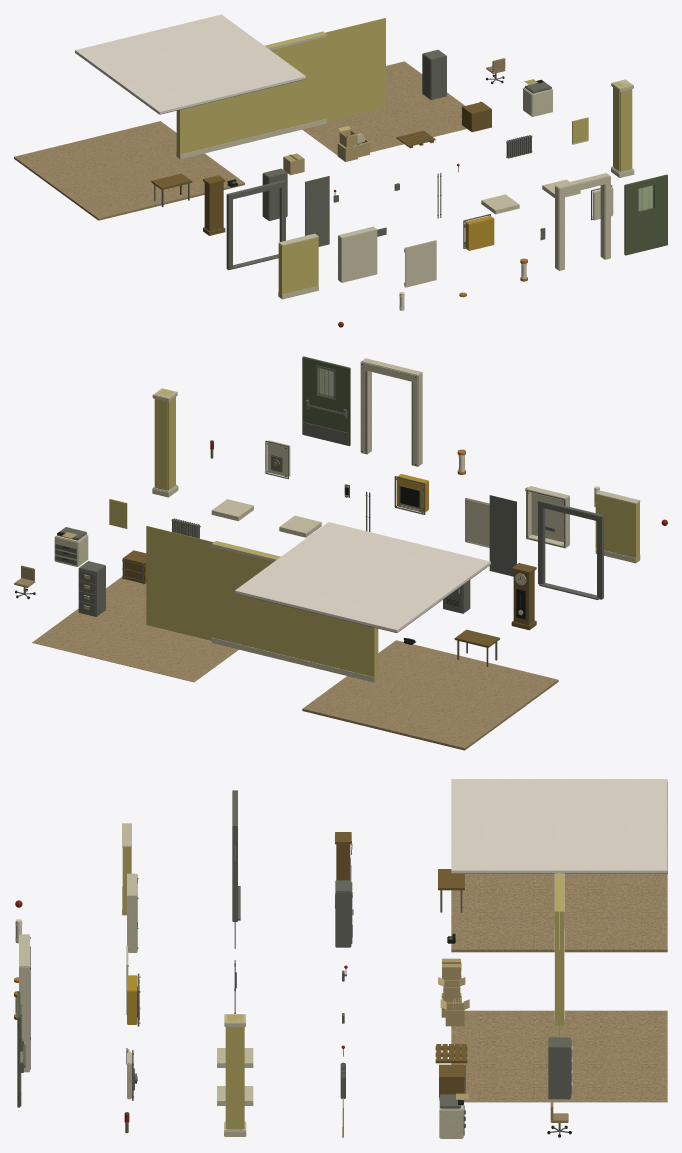
Rendered from Level1_ModularKit.fbx.
3 views of the same model, one above another, from view 1: azimuth 30°, elevation 25°; view 2: azimuth 150°, elevation 25°; view 3: azimuth 270°, elevation 25° (orthographic). The views are drawn at different scales.
Parts seen in each view (by area): view 1: Ceiling.042, Floor.042, WallHalf.079, FloorSkin, WallSkin, ExitDoor, WallShort.008, ExitPortal, RelayShell, Pillar, ElevatorDoorSkin.002, ElevatorFrame.001 (+11 smaller); view 2: Ceiling.042, Floor.042, WallHalf.079, FloorSkin, WallSkin, ExitDoor, ExitPortal, WallShort.008, Pillar, ElevatorDoorSkin.002, ElevatorFrame.001, RelayShell (+11 smaller); view 3: Ceiling.042, FloorSkin, Floor.042, Pillar, WallHalf.079, FilingCabinet.003, ExitPortal, RelayCabinet.001, Printer, CardboardPile.001, ElevatorFrame.001, RelayShell (+7 smaller).
Boxes of the visible parts, x1,y1,x2,y2 form: Ceiling.042: [75, 14, 305, 114]; Floor.042: [14, 121, 244, 220]; WallHalf.079: [176, 31, 326, 159]; FloorSkin: [302, 61, 466, 155]; WallSkin: [325, 18, 385, 121]; ExitDoor: [624, 174, 667, 255]; WallShort.008: [278, 233, 318, 299]; ExitPortal: [555, 173, 610, 270]; RelayShell: [338, 226, 377, 282]; Pillar: [611, 79, 634, 177]; ElevatorDoorSkin.002: [305, 176, 329, 246]; ElevatorFrame.001: [226, 180, 285, 270]; Ceiling.042: [234, 522, 490, 632]; Floor.042: [302, 640, 558, 750]; WallHalf.079: [212, 541, 378, 682]; FloorSkin: [32, 577, 238, 682]; WallSkin: [146, 526, 277, 640]; ExitDoor: [302, 356, 350, 446]; ExitPortal: [360, 358, 422, 466]; WallShort.008: [595, 490, 640, 563]; Pillar: [152, 388, 178, 497]; ElevatorDoorSkin.002: [489, 495, 516, 576]; ElevatorFrame.001: [538, 500, 603, 599]; RelayShell: [526, 486, 569, 548]; Ceiling.042: [451, 779, 667, 873]; FloorSkin: [451, 1010, 667, 1102]; Floor.042: [451, 874, 667, 952]; Pillar: [224, 1014, 246, 1136]; WallHalf.079: [554, 873, 564, 1025]; FilingCabinet.003: [548, 1037, 572, 1099]; ExitPortal: [19, 934, 30, 1072]; RelayCabinet.001: [335, 880, 353, 947]; Printer: [439, 1093, 468, 1138]; CardboardPile.001: [438, 977, 469, 1026]; ElevatorFrame.001: [232, 790, 240, 921]; RelayShell: [127, 873, 138, 952].
Size of the model in its own units: 2065 by 490 by 2032.
